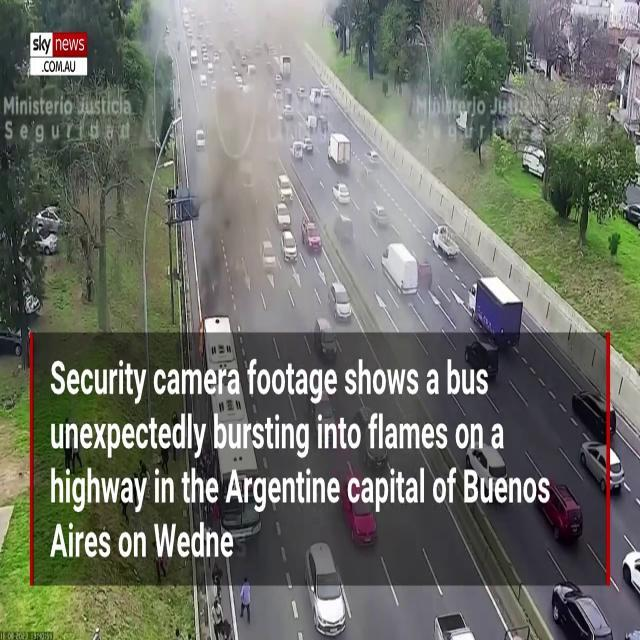Smoke: (195, 8, 295, 316)
